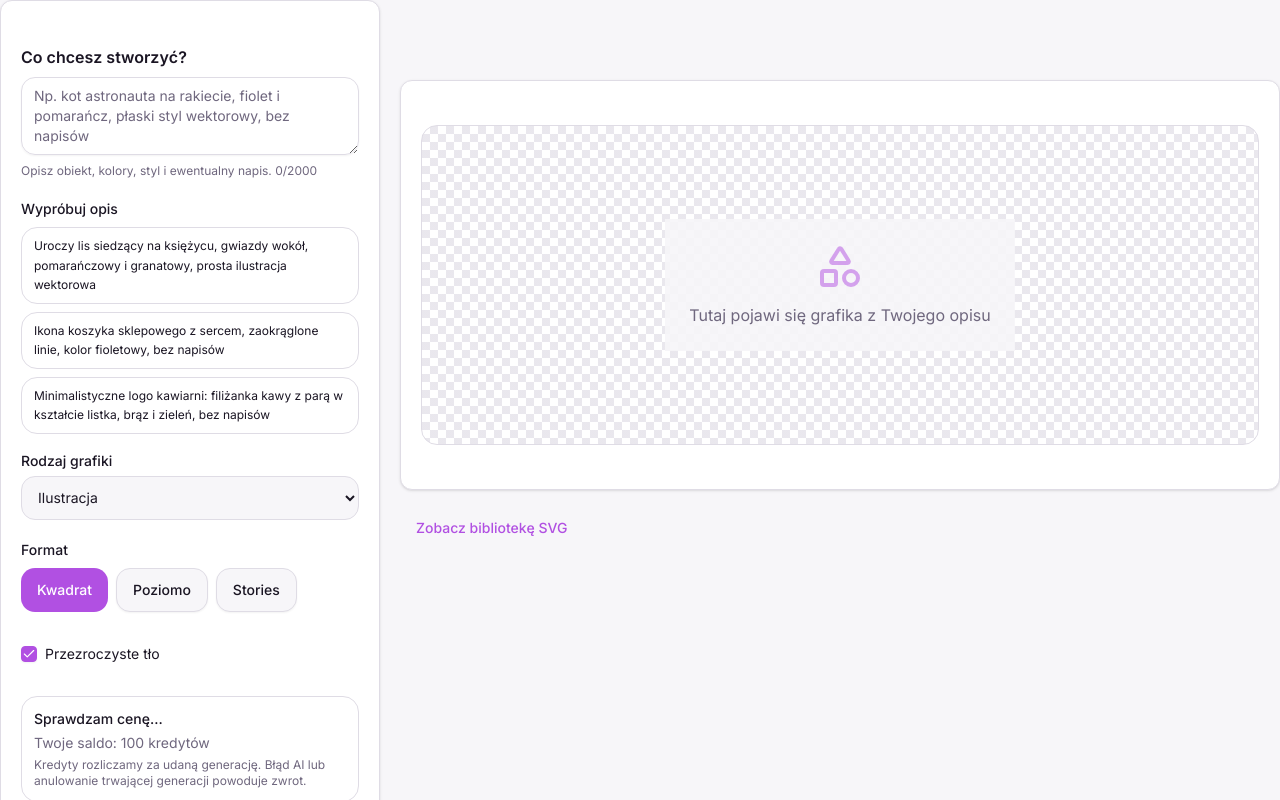
Test case: does not submit to an unconfigured provider and keeps the prompt editable
Replace the text in the text box labelled "Co chcesz stworzyć?" with "Lis na księżycu" at (190, 116), box left=21, top=77, right=359, bottom=155
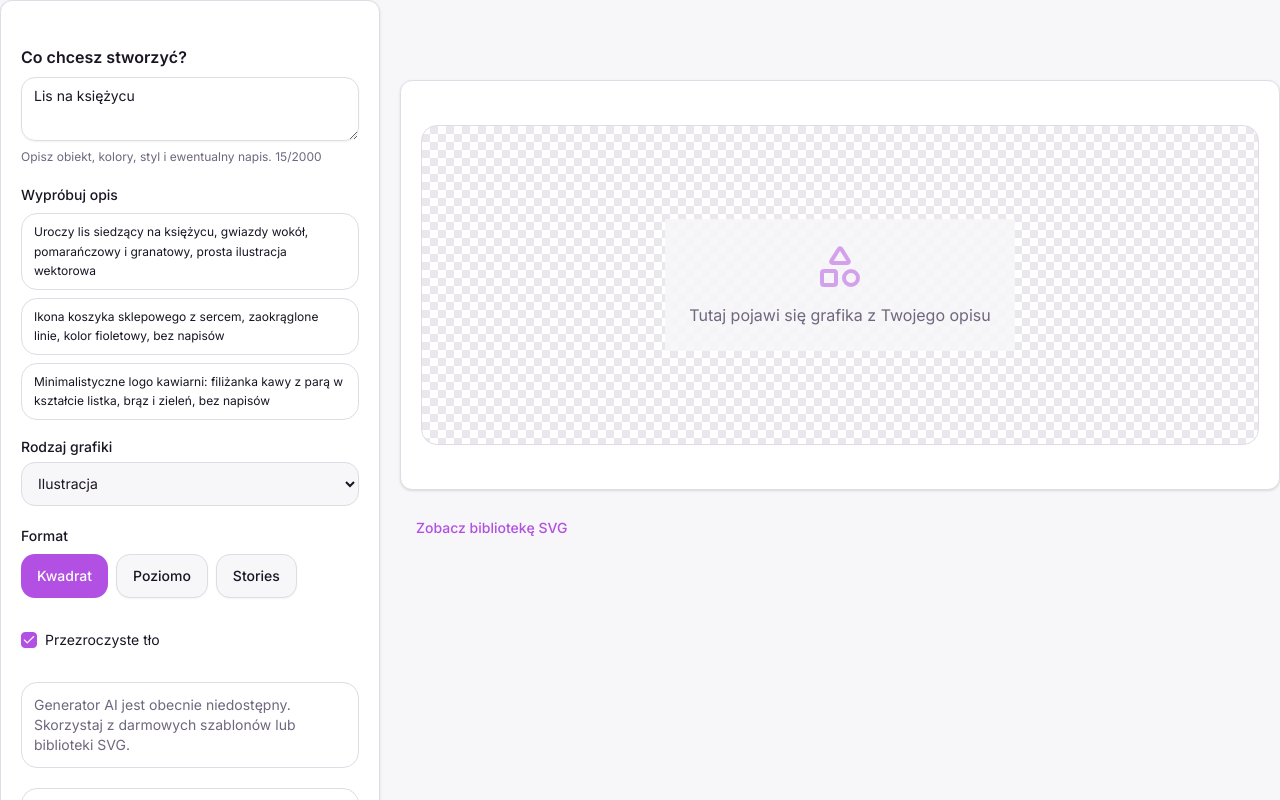
Expected: the text box labelled "Co chcesz stworzyć?" is enabled, left=21, top=77, right=359, bottom=141
Now the text "Generator AI jest obecnie niedostępny" is shown, box left=34, top=696, right=296, bottom=752
